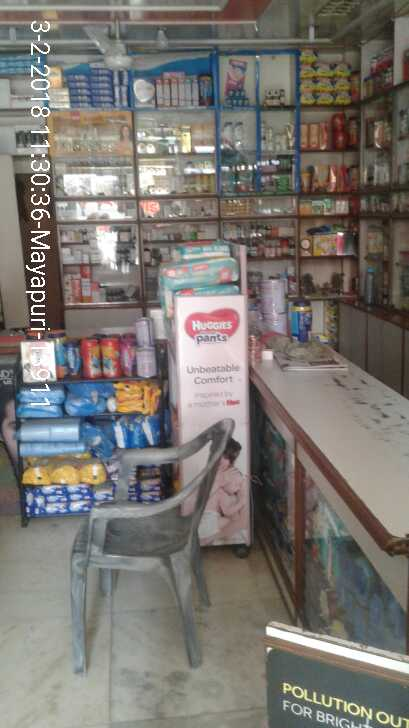vicks: (226, 89, 253, 106)
